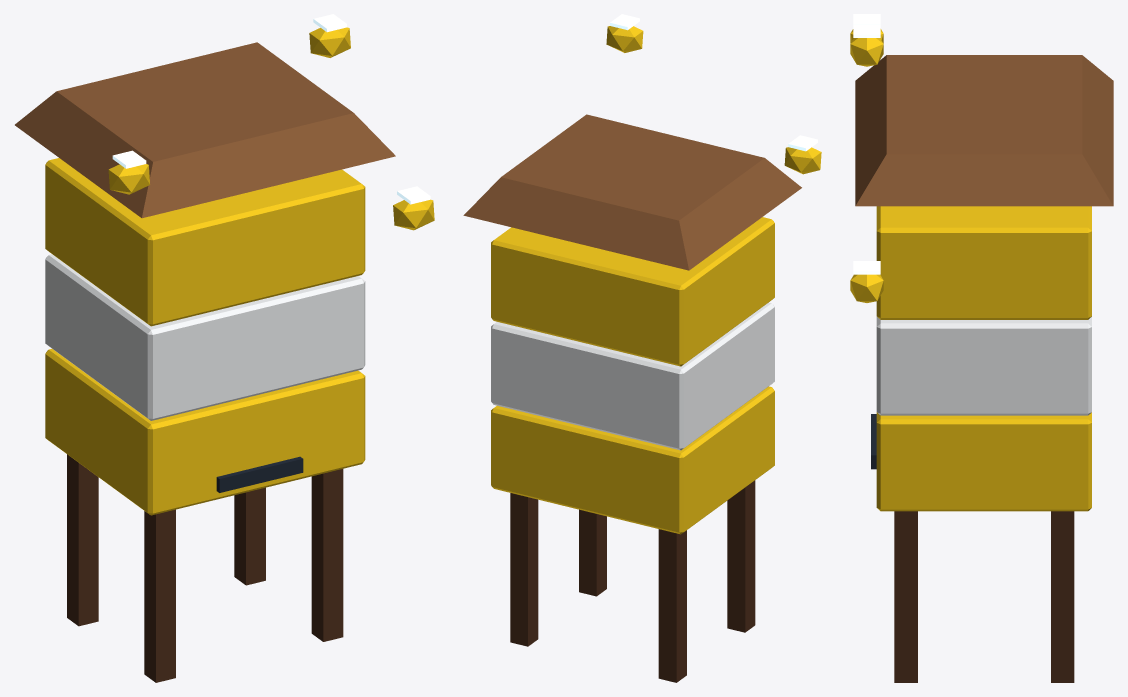
File: sarang_lebah_v001.glb
3 views of the same model, side by side, from view 1: azimuth 30°, elevation 25°; view 2: azimuth 150°, elevation 25°; view 3: azimuth 270°, elevation 25° (orthographic). The views are drawn at different scales.
Parts seen in each view (by area): view 1: Sarang_Lebah; view 2: Sarang_Lebah; view 3: Sarang_Lebah.
Part boxes in pixels (x1,y1,x2,y2): Sarang_Lebah: (15, 14, 434, 682); Sarang_Lebah: (463, 14, 821, 682); Sarang_Lebah: (850, 14, 1113, 682).
Bounding box in the file's own units: 0.9663 × 1.8 × 0.6725.
